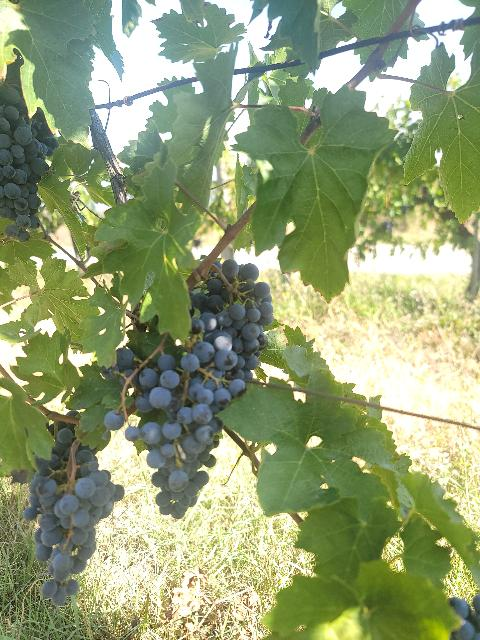grapes: (24, 449, 124, 606), (135, 351, 221, 519), (0, 82, 59, 242), (191, 260, 274, 371)
